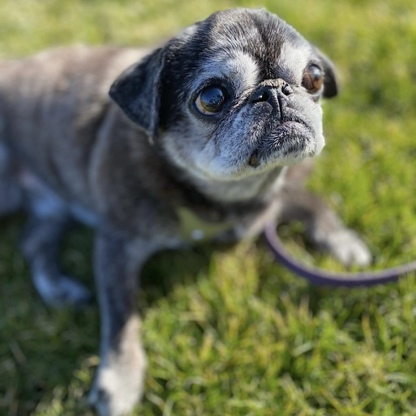Pug: (1, 1, 382, 416)
